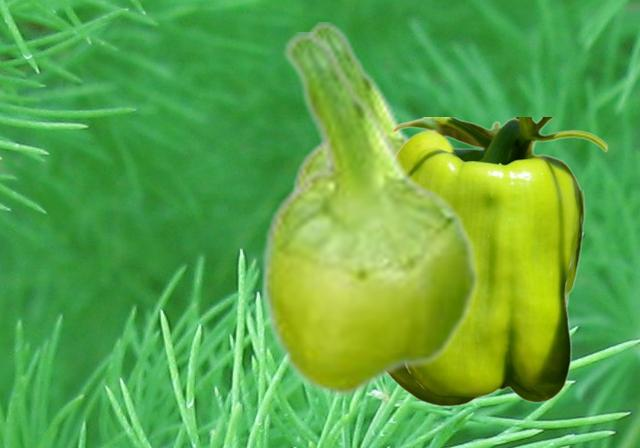bell_pepper: (259, 32, 480, 397), (388, 117, 607, 406), (288, 22, 413, 190)
